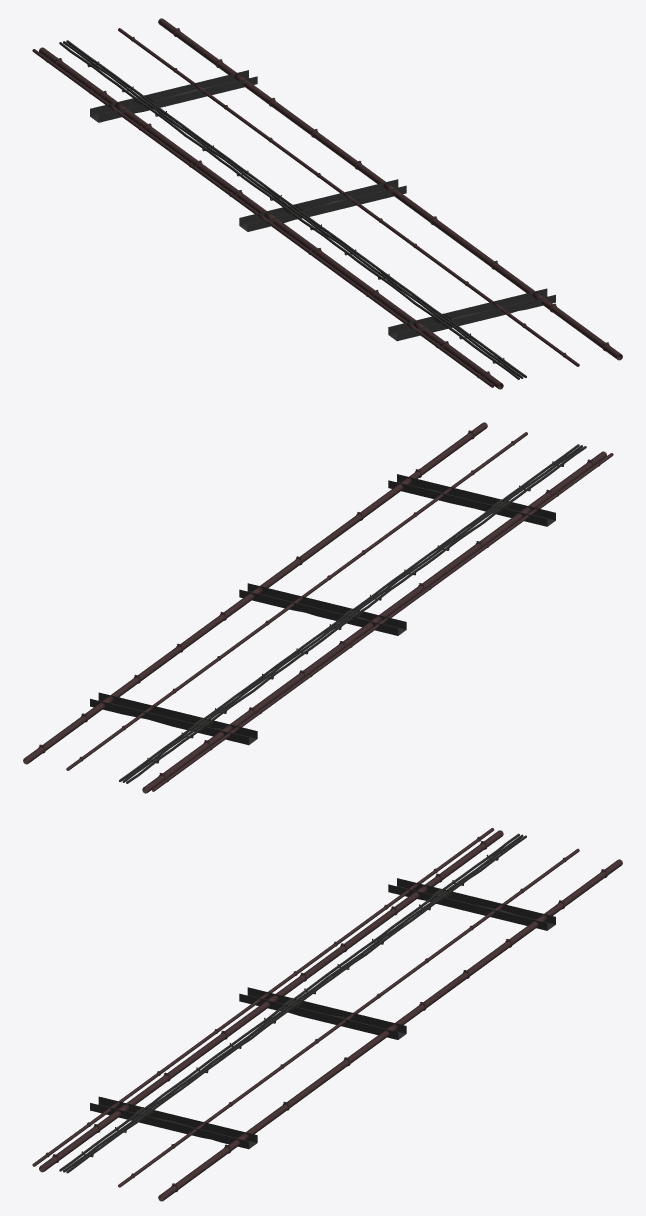
The model's file is SW_ENV_RailTunnelCeiling_Single_20m_FF.fbx.
3 renders of one model, top to bottom at view 1: azimuth 30°, elevation 25°; view 2: azimuth 150°, elevation 25°; view 3: azimuth 330°, elevation 25°, orthographic.
Parts seen in each view (by area): view 1: SW_ENV_RailTunnelCeiling_Single_20m_FF; view 2: SW_ENV_RailTunnelCeiling_Single_20m_FF; view 3: SW_ENV_RailTunnelCeiling_Single_20m_FF.
Boxes of the visible parts, x1,y1,x2,y2 form: SW_ENV_RailTunnelCeiling_Single_20m_FF: (32,18,622,389); SW_ENV_RailTunnelCeiling_Single_20m_FF: (23,422,613,793); SW_ENV_RailTunnelCeiling_Single_20m_FF: (32,828,622,1201).
Bounding box in the file's own units: 4 × 0.19 × 20.
